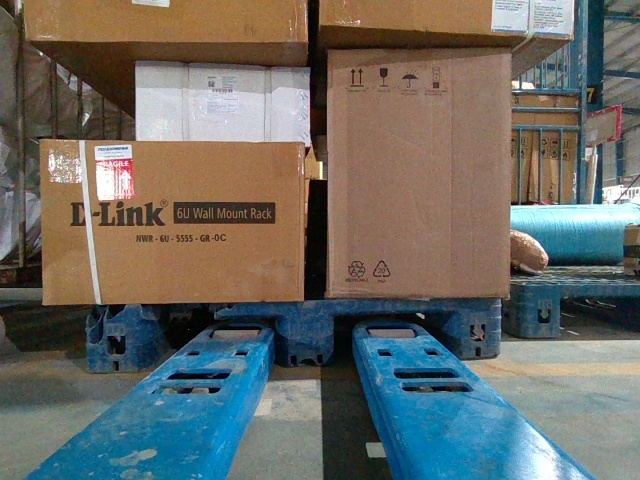block: (88, 302, 159, 371), (281, 300, 335, 369), (454, 301, 499, 359), (521, 282, 562, 336)
front: (87, 298, 499, 371)
hole pallet: (143, 318, 282, 372), (331, 311, 453, 360), (560, 300, 639, 335)
